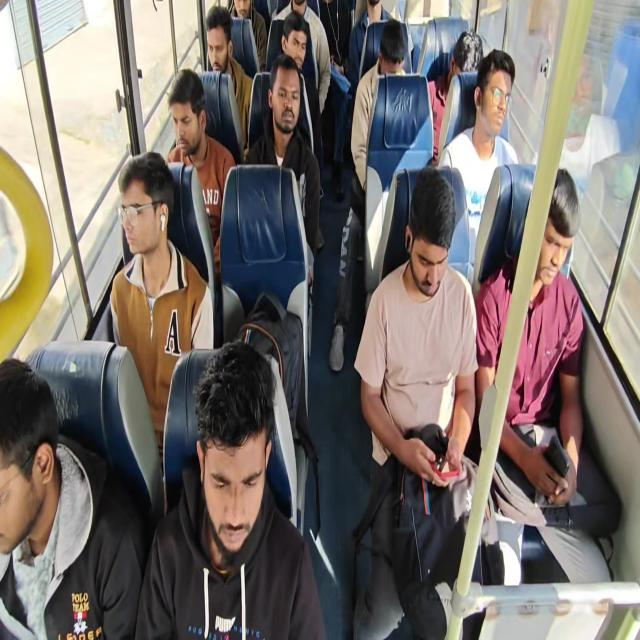person: (188, 326, 282, 566), (2, 356, 56, 572), (522, 153, 581, 301), (404, 165, 462, 314), (118, 144, 173, 268), (162, 68, 209, 158), (476, 48, 518, 148), (269, 56, 310, 132), (195, 3, 234, 81), (372, 12, 414, 81), (280, 10, 307, 66), (454, 20, 482, 73)
